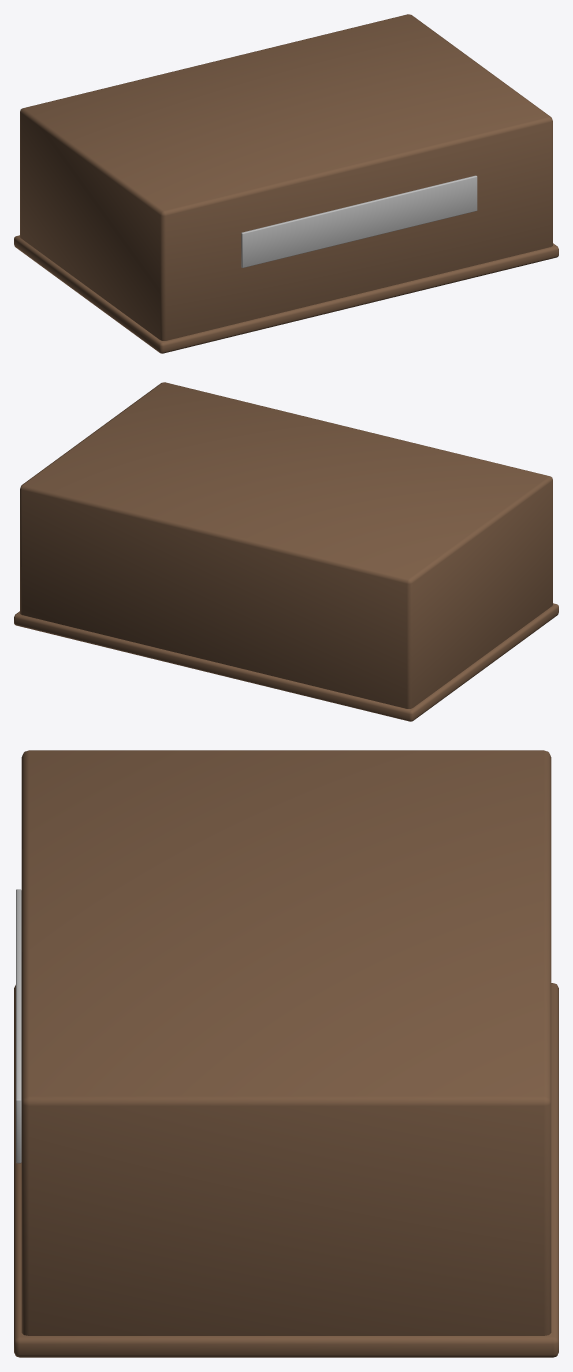
The model's file is fx_cigar_box.glb.
The picture shows the model from 3 angles, top to bottom: view 1: azimuth 30°, elevation 25°; view 2: azimuth 150°, elevation 25°; view 3: azimuth 270°, elevation 25°; orthographic projection. The views are drawn at different scales.
Visible parts, largest first — view 1: fx_cigar_box; view 2: fx_cigar_box; view 3: fx_cigar_box.
Boxes of the visible parts, x1,y1,x2,y2 form: fx_cigar_box: (14, 14, 558, 353); fx_cigar_box: (14, 382, 558, 721); fx_cigar_box: (14, 750, 558, 1357).
Bounding box in the file's own units: 0.448 × 0.15 × 0.288.
